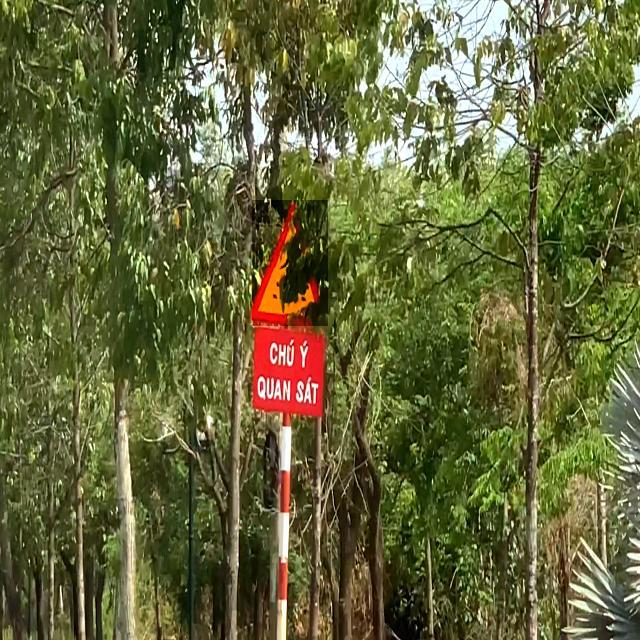W-224: (252, 201, 328, 327)
